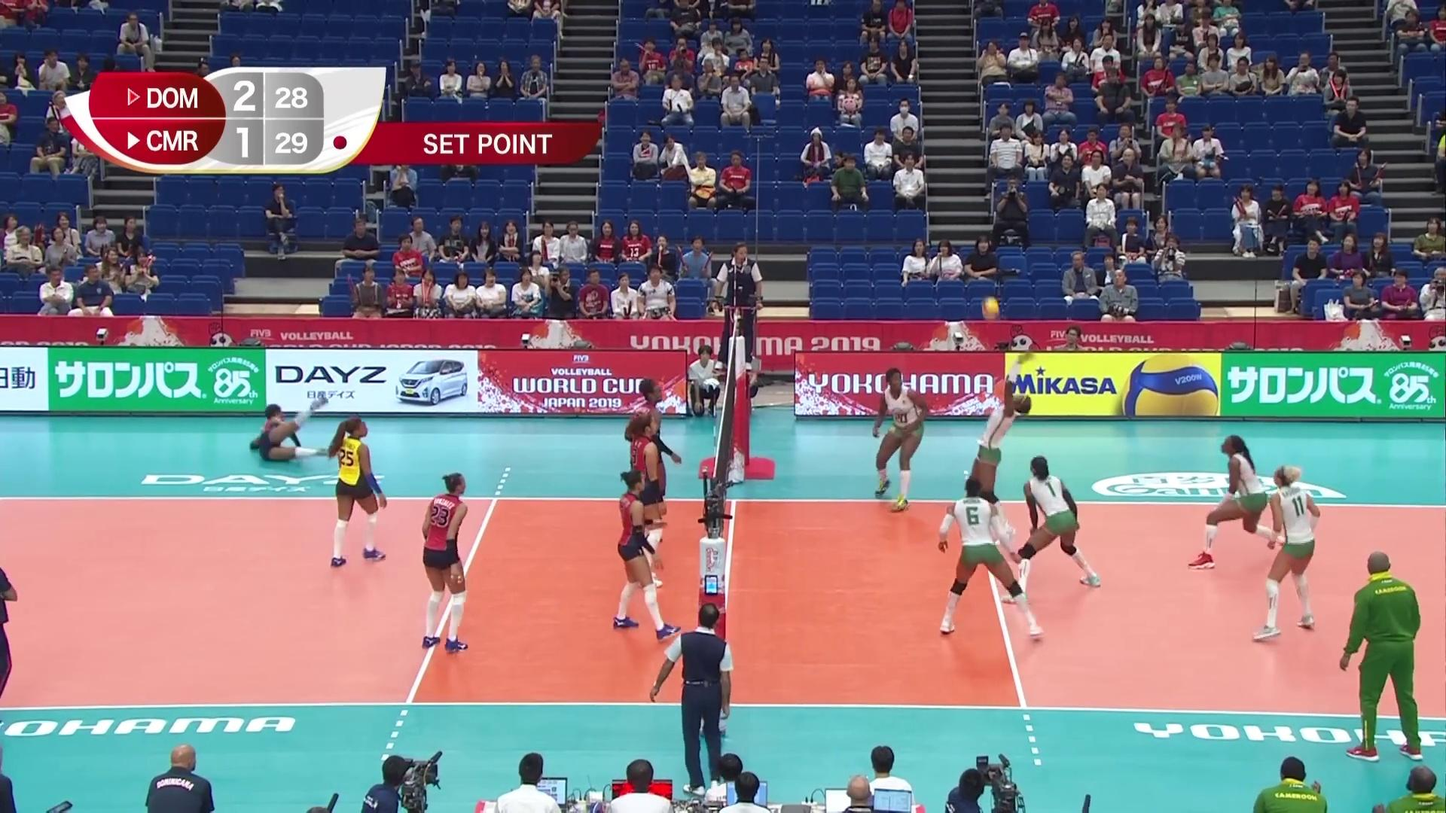player: (941, 483, 1046, 641), (1245, 466, 1330, 639), (414, 472, 486, 654), (618, 375, 680, 575), (1008, 454, 1099, 589), (959, 384, 1048, 515), (1195, 434, 1274, 569), (610, 472, 671, 632), (334, 422, 396, 567), (871, 367, 929, 513), (622, 412, 668, 591), (256, 391, 335, 467)
refree: (650, 602, 733, 802), (712, 241, 765, 375)
